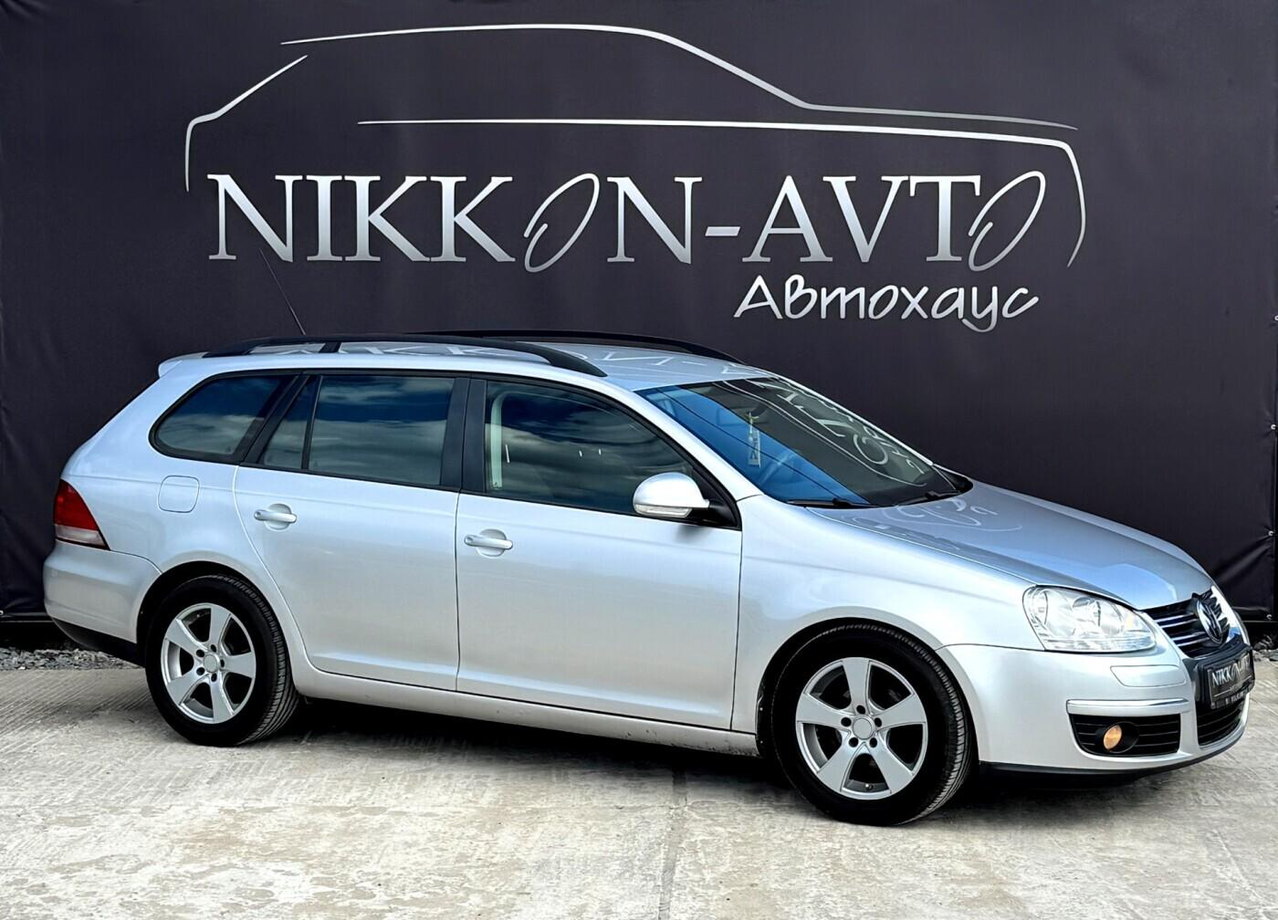Golf_2003-2009: (33, 334, 1261, 834)
